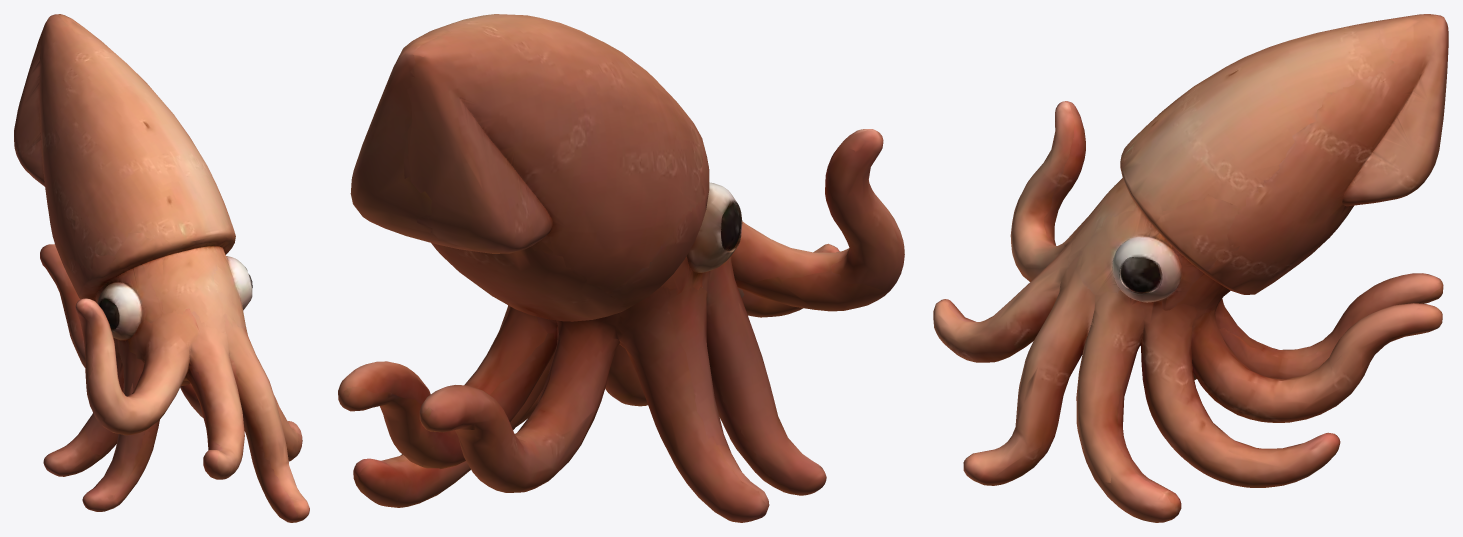
The model's file is squid_pbr.glb.
3 views of the same model, side by side, from view 1: azimuth 30°, elevation 25°; view 2: azimuth 150°, elevation 25°; view 3: azimuth 270°, elevation 25° (orthographic). The views are drawn at different scales.
Visible parts, largest first — view 1: model.015; view 2: model.015; view 3: model.015.
Boxes of the visible parts, x1,y1,x2,y2 form: model.015: [14, 14, 309, 522]; model.015: [338, 14, 904, 522]; model.015: [933, 14, 1448, 522].
Bounding box in the file's own units: 0.9092 × 1.24 × 1.31.
1 material, 1 textured.
